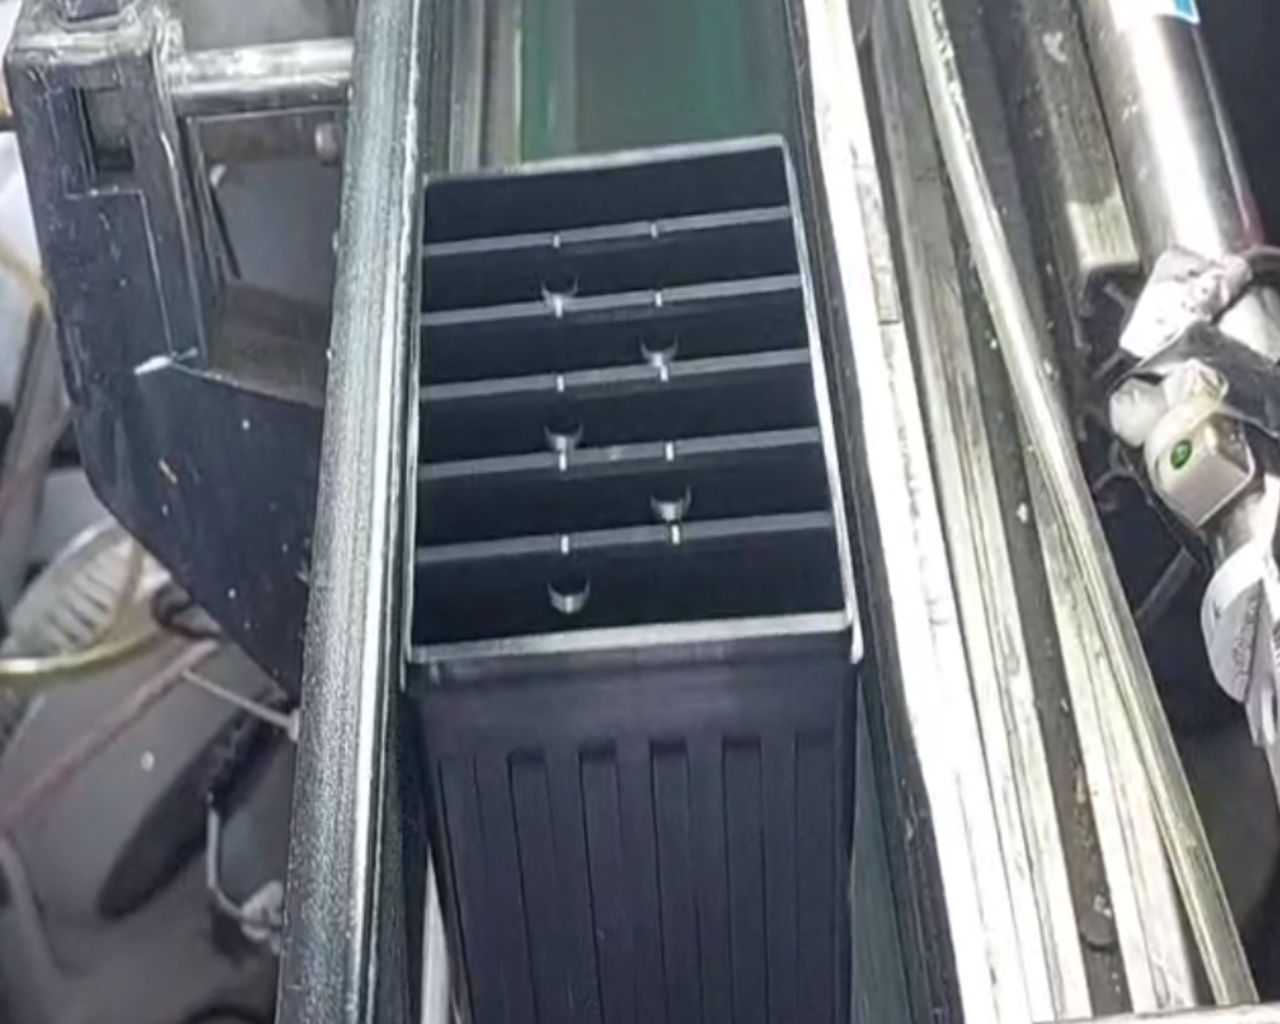box: (362, 112, 888, 709)
round: (629, 466, 708, 529), (525, 562, 607, 621), (622, 312, 697, 375), (523, 255, 596, 315), (527, 400, 604, 456)
